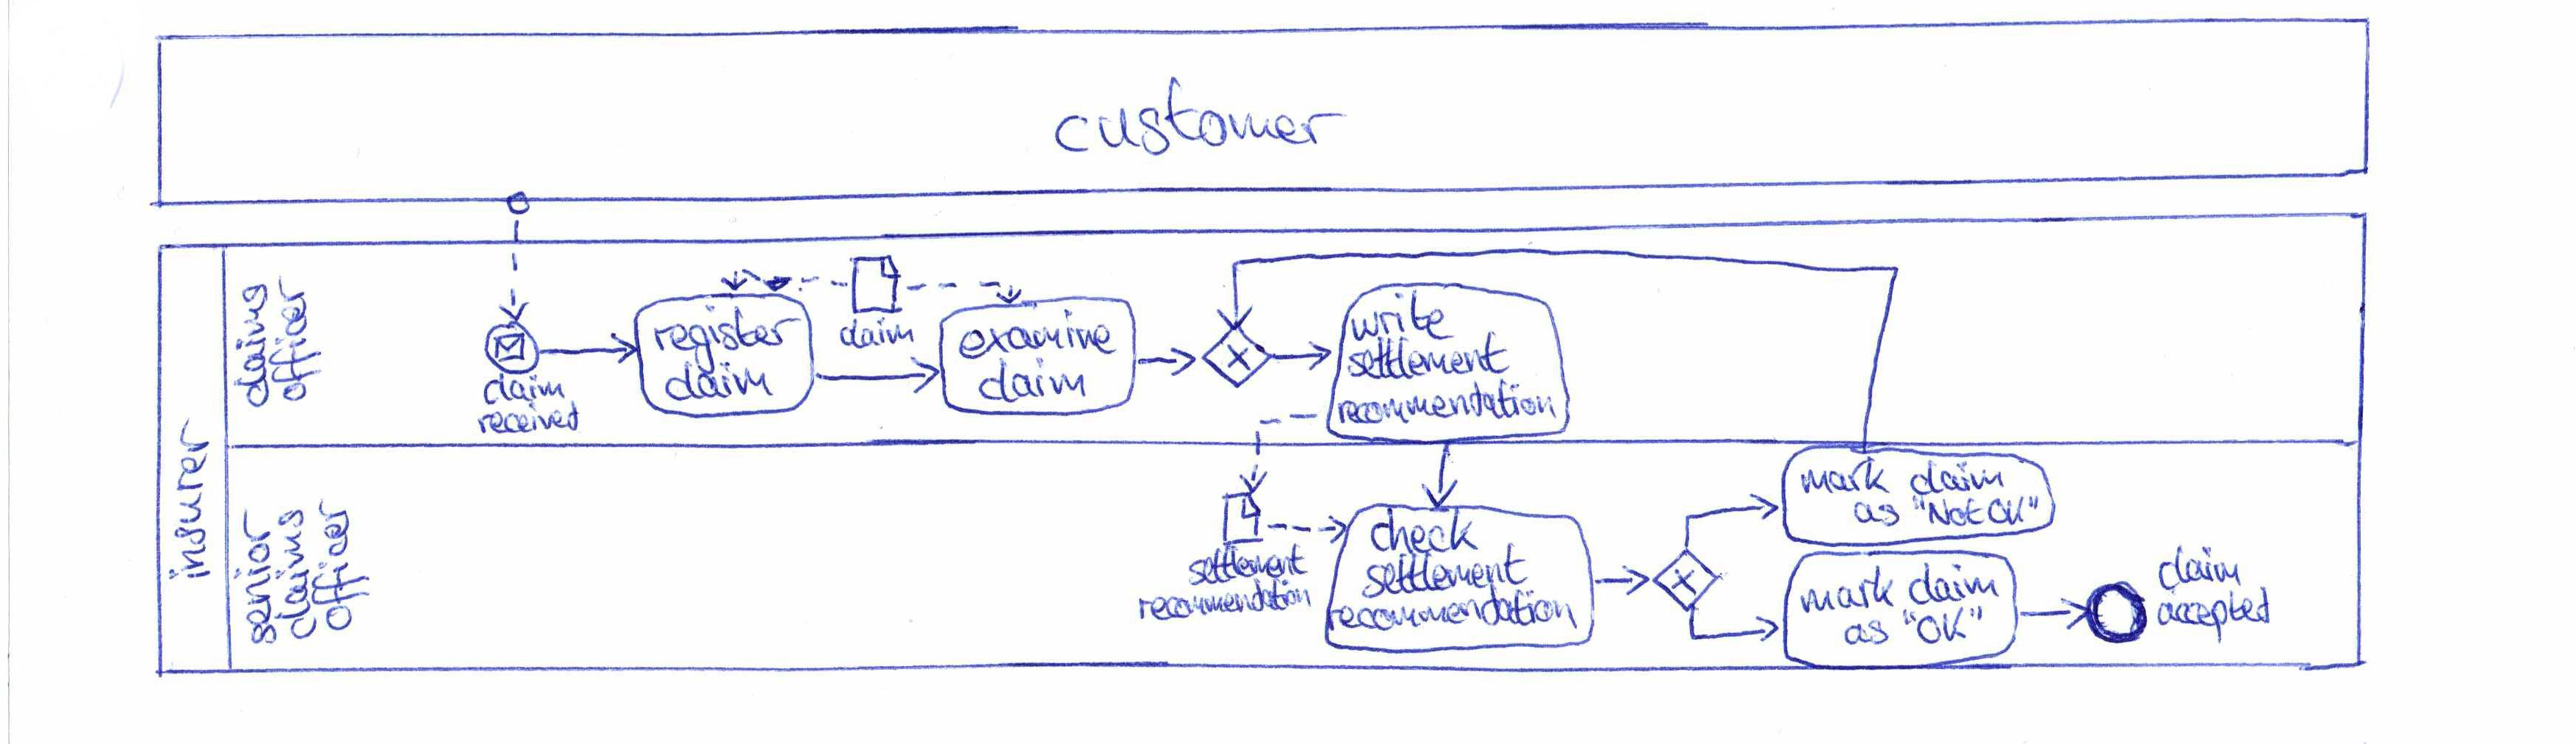Not: (1907, 489, 1991, 532)
OK: (1898, 599, 1988, 652), (1983, 489, 2044, 530)
accepted: (2151, 581, 2277, 647)
as: (1847, 494, 1907, 532), (1838, 616, 1894, 652)
check: (1364, 499, 1487, 562)
claim: (973, 351, 1092, 409), (657, 355, 780, 409), (2151, 537, 2249, 598), (1901, 555, 2006, 609), (1902, 455, 2009, 503), (476, 366, 572, 412), (831, 310, 920, 356)
claims: (266, 501, 322, 645), (225, 278, 278, 412)
customer: (1045, 64, 1360, 169)
examine: (951, 302, 1124, 366)
insurer: (163, 414, 215, 586)
mark: (1794, 558, 1899, 621), (1794, 448, 1898, 501)
officer: (306, 491, 376, 639), (261, 271, 327, 407)
received: (472, 394, 585, 440)
recommendation: (1322, 578, 1585, 641), (1331, 373, 1564, 430), (1132, 573, 1318, 627)
register: (646, 299, 808, 379)
senior: (228, 503, 283, 652)
settlement: (1355, 537, 1534, 604), (1342, 325, 1516, 386), (1181, 535, 1314, 591)
write: (1344, 284, 1462, 350)
